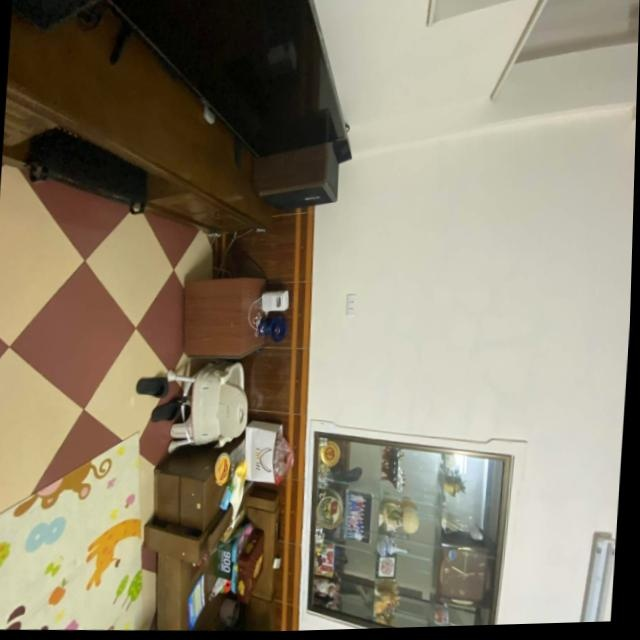outlet: (344, 293, 356, 316)
